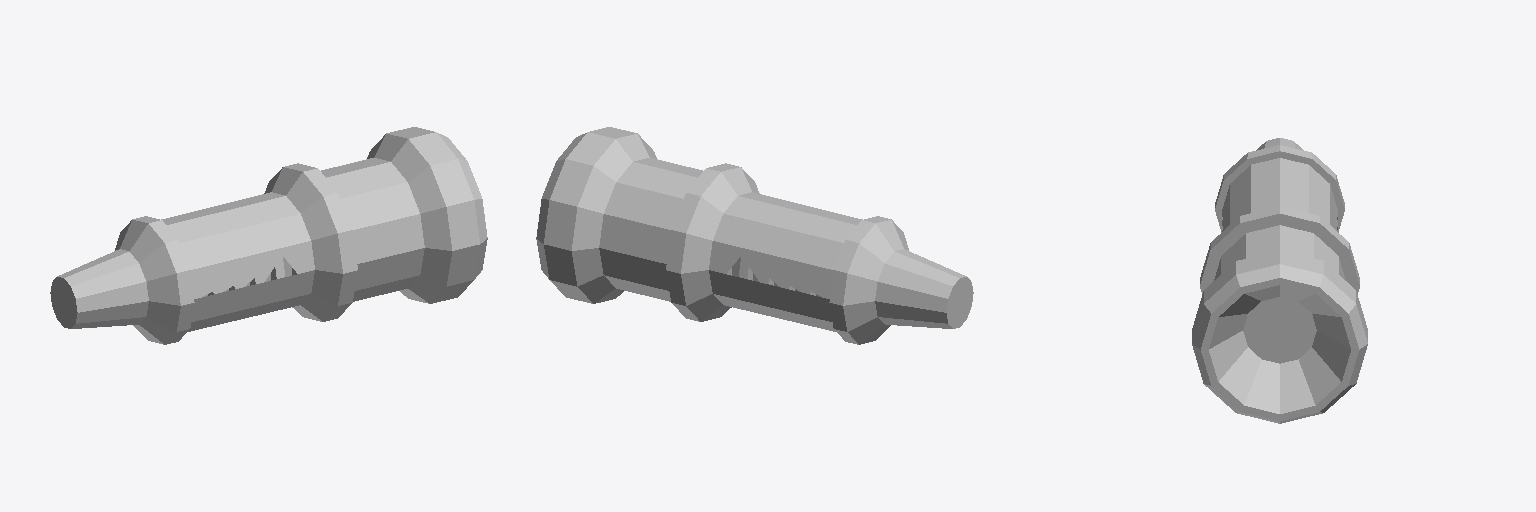
File: HeatOMeter_Engine.obj
3 renders of one model, left to right at view 1: azimuth 30°, elevation 25°; view 2: azimuth 150°, elevation 25°; view 3: azimuth 270°, elevation 25°, orthographic.
Visible parts, largest first — view 1: Cylinder; view 2: Cylinder; view 3: Cylinder.
Part boxes in pixels (x1,y1,x2,y2): Cylinder: (50, 127, 487, 344); Cylinder: (536, 127, 973, 344); Cylinder: (1192, 138, 1367, 423).
Bounding box in the file's own units: 2.93 × 1.17 × 1.17.